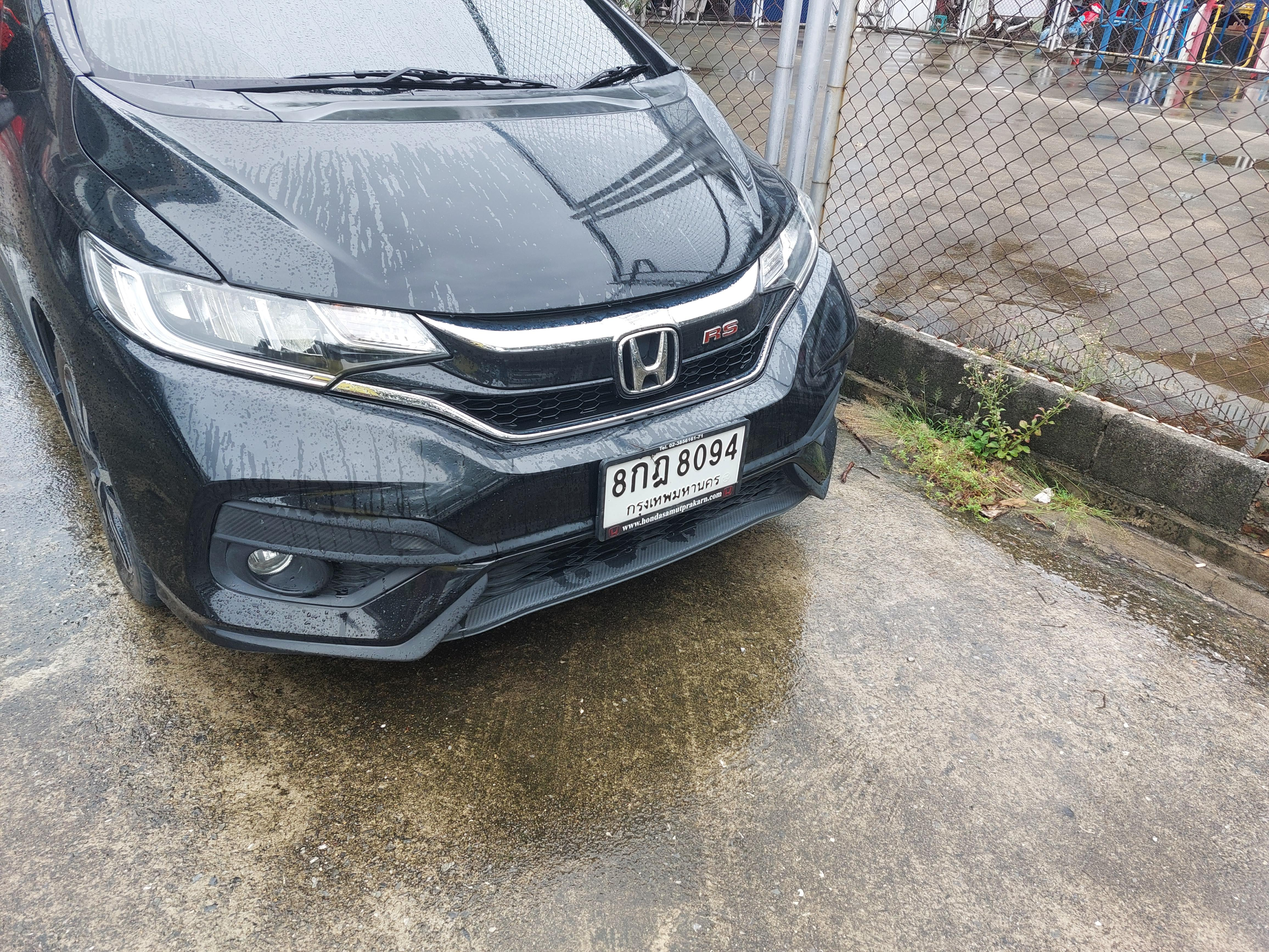license-plate: (589, 416, 754, 543)
